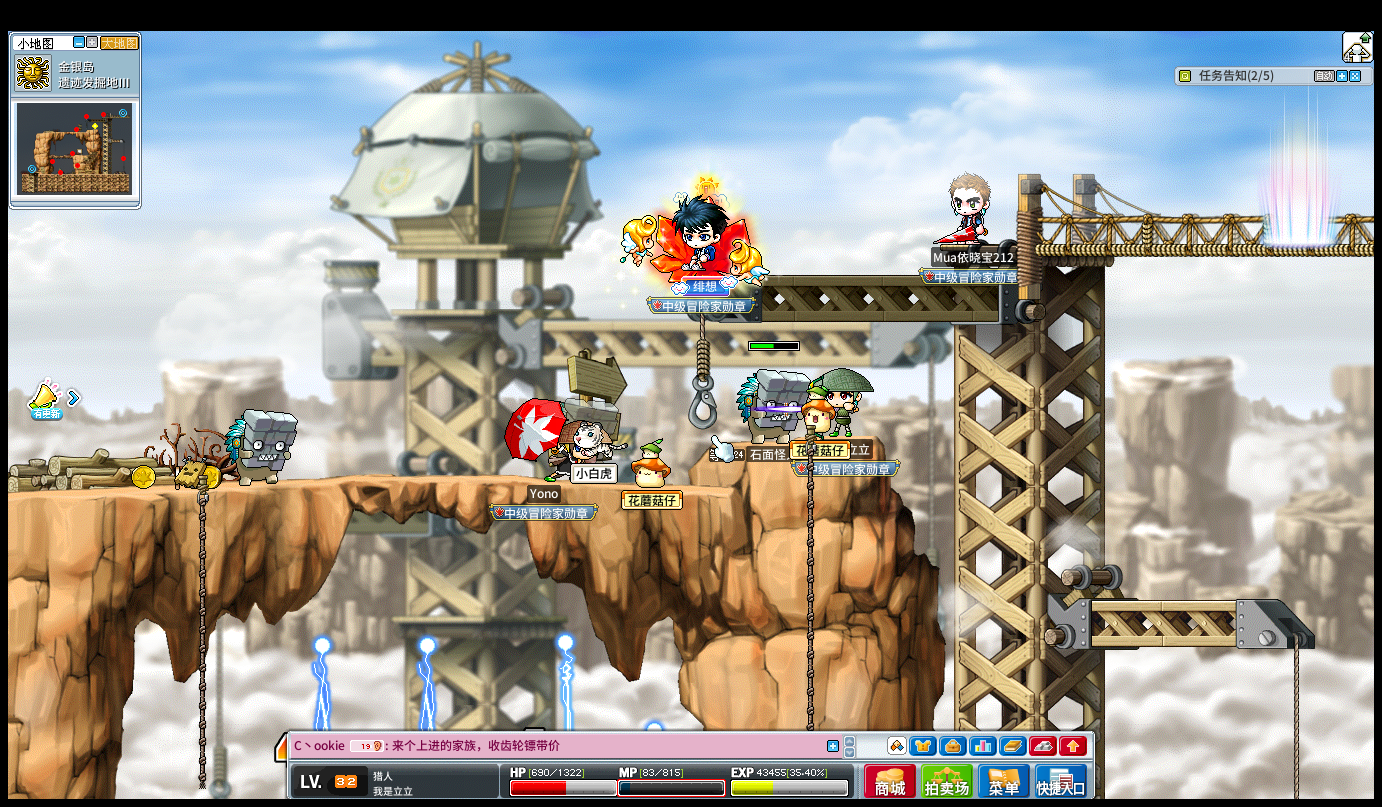floor: (8, 470, 769, 498), (47, 472, 766, 492), (1090, 599, 1288, 612)
monster: (224, 409, 298, 487), (736, 368, 808, 441)
rope: (193, 471, 207, 796), (802, 435, 817, 724), (1288, 644, 1303, 794)
